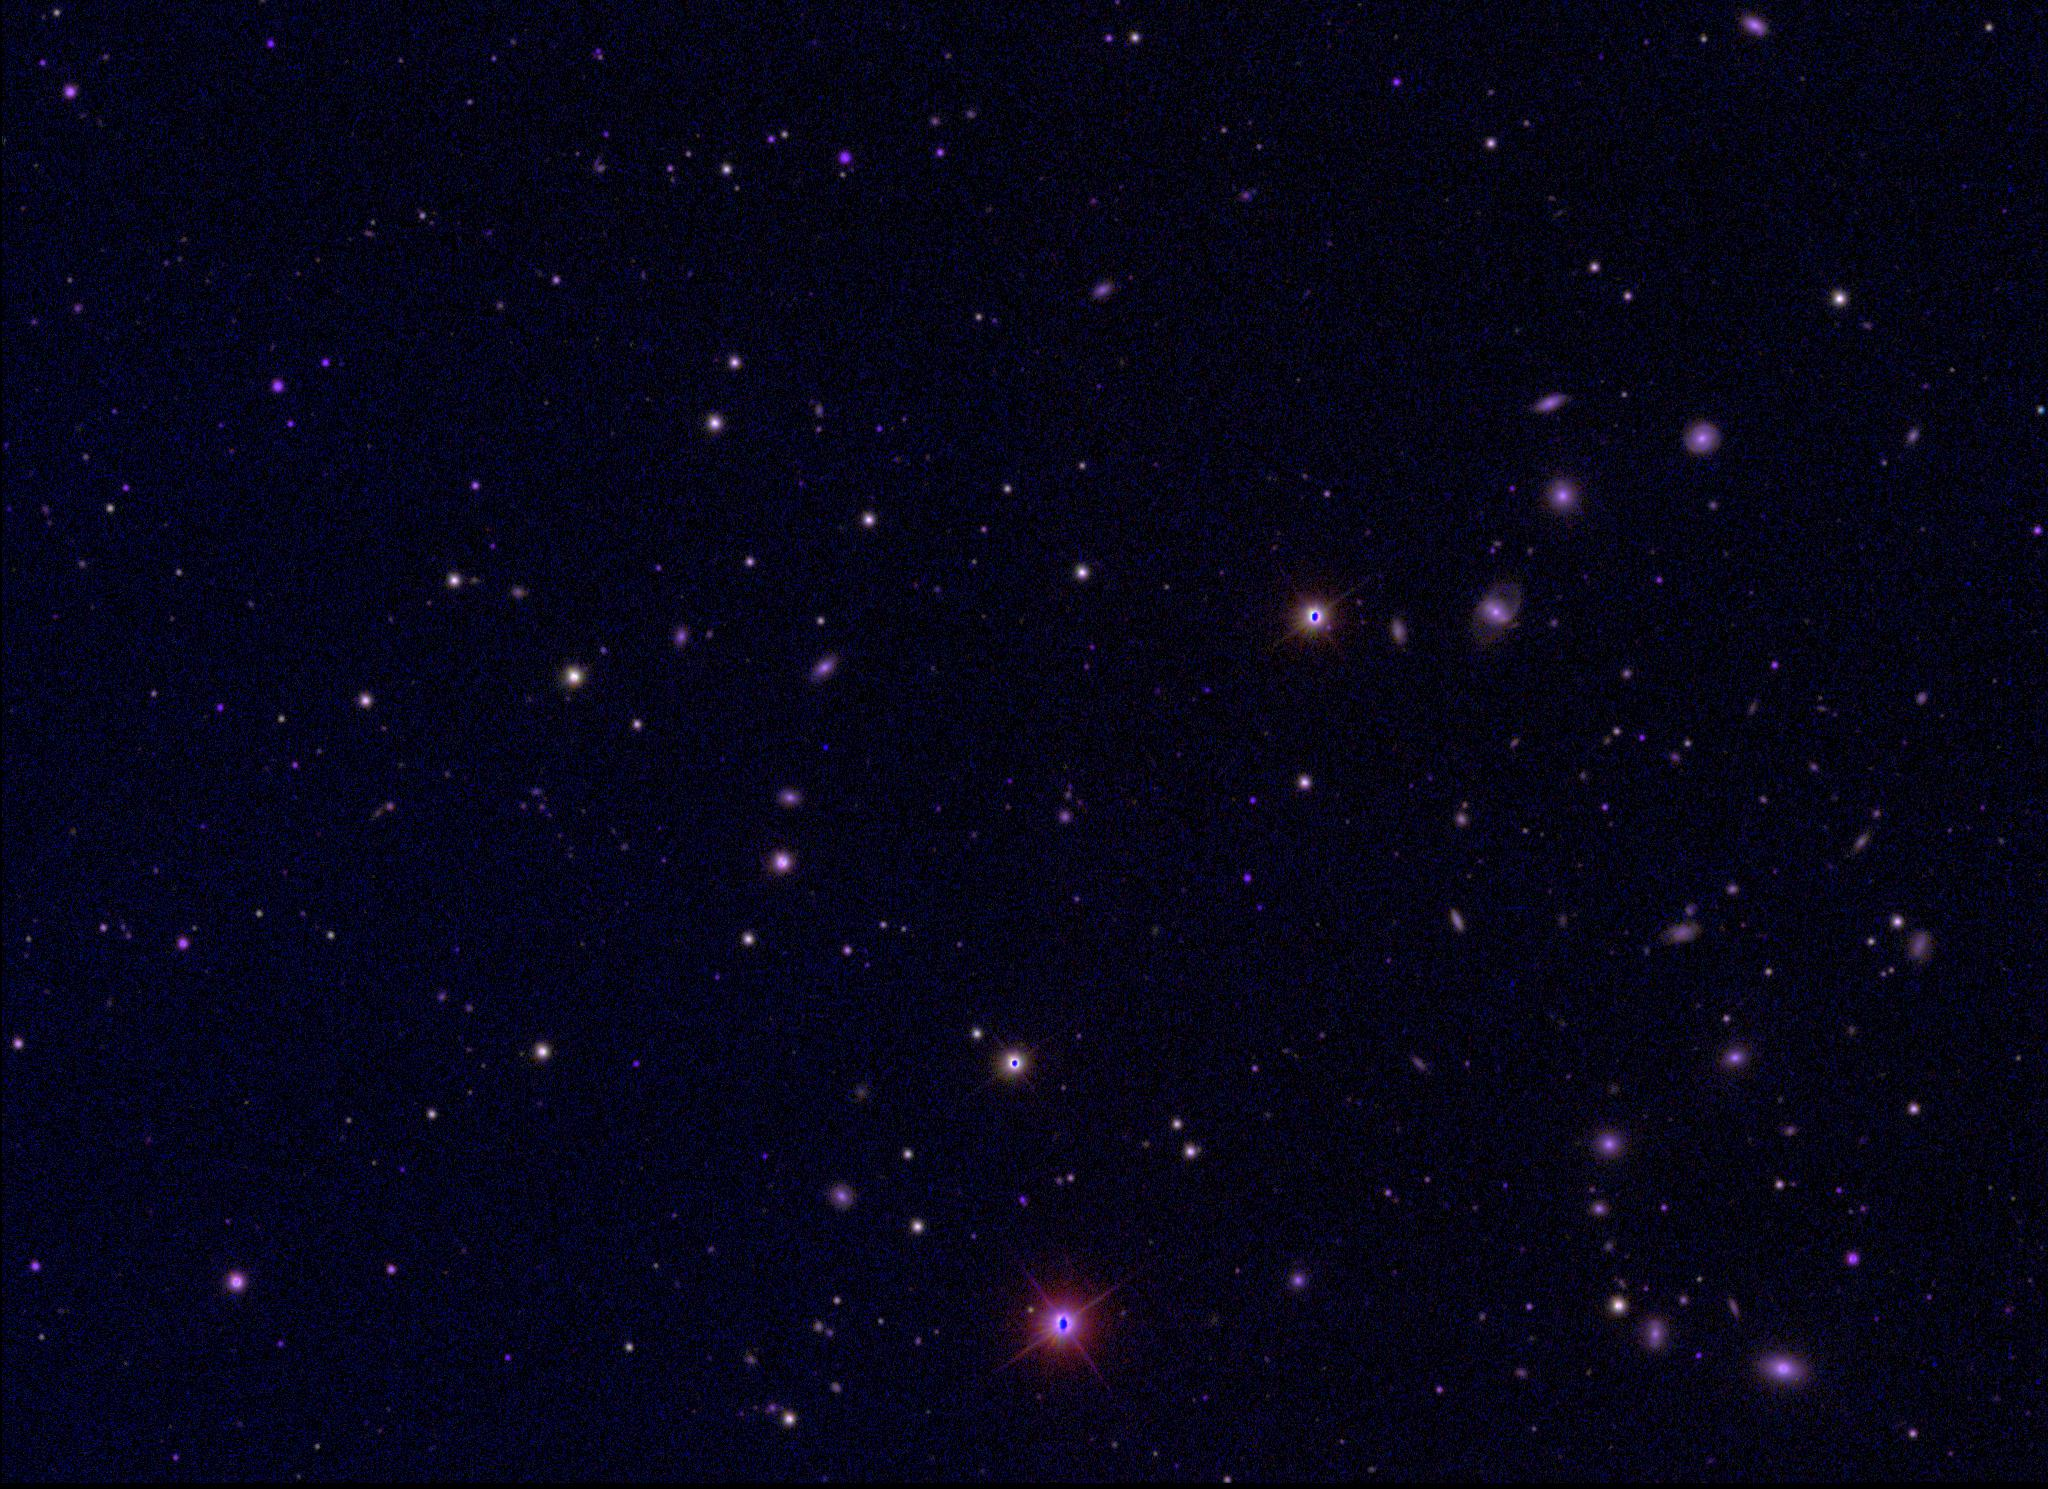L: (819, 740, 833, 754)
